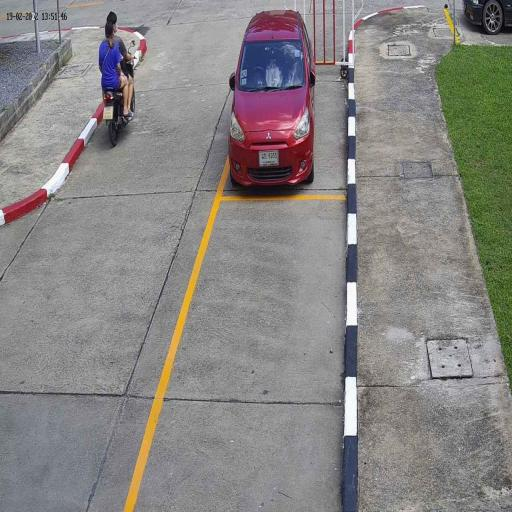car: (226, 6, 318, 192)
motorcycle: (103, 87, 127, 149)
